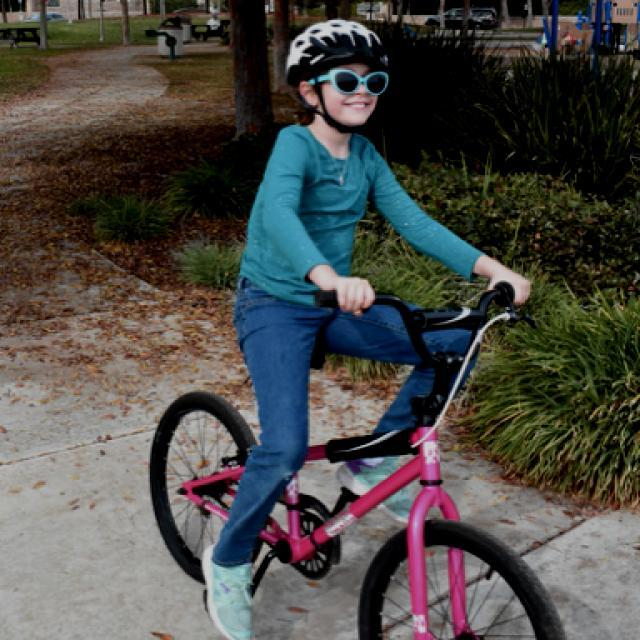Helmet: (278, 12, 404, 136)
